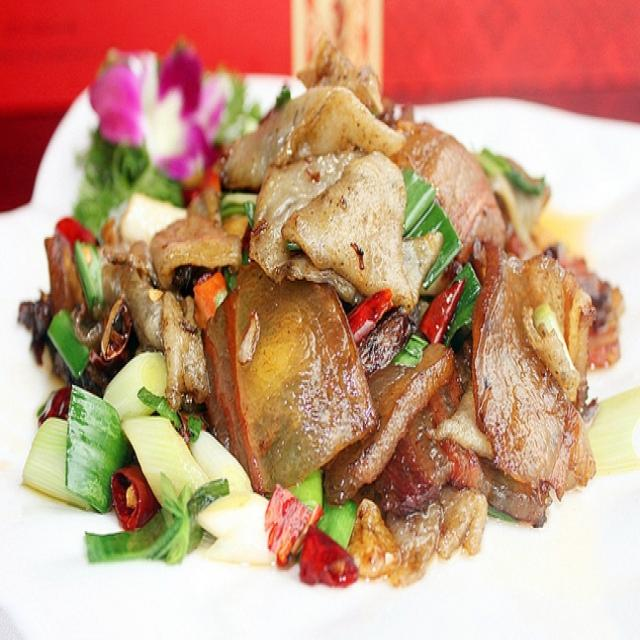豆腐料理: (21, 42, 624, 608)
